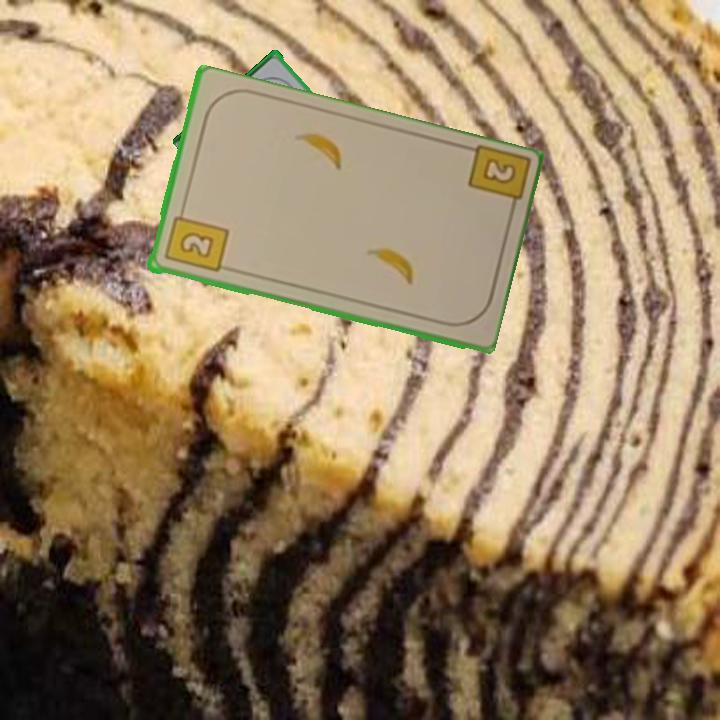2b: (160, 204, 231, 276), (463, 143, 529, 219)
